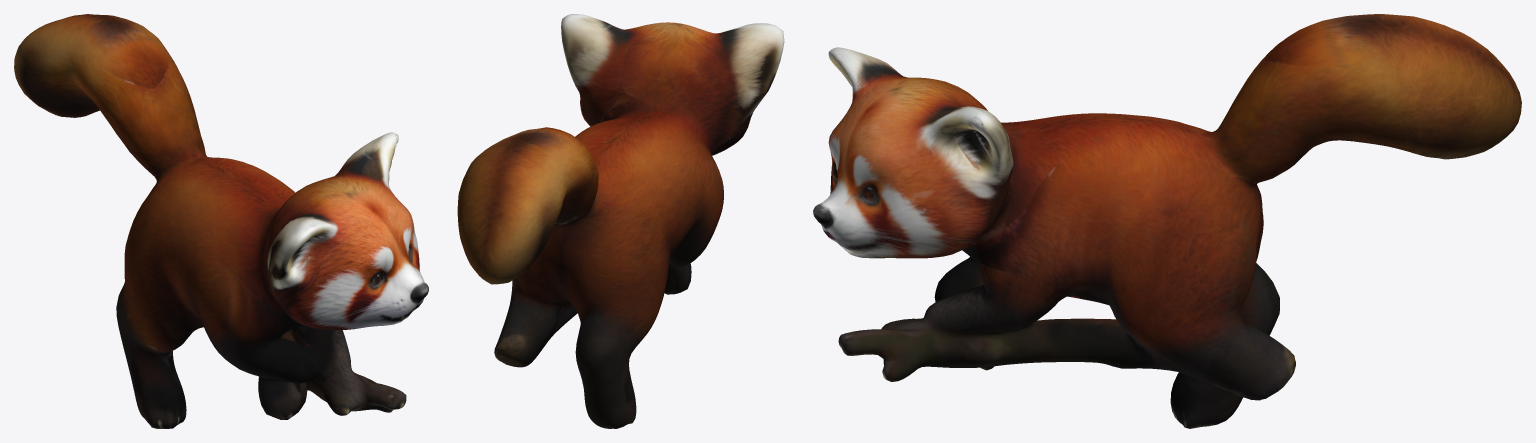
The model's file is a_realistic_red_panda_0118134912_texture.fbx.
The picture shows the model from 3 angles, left to right: view 1: azimuth 30°, elevation 25°; view 2: azimuth 150°, elevation 25°; view 3: azimuth 270°, elevation 25°; orthographic projection. The views are drawn at different scales.
Parts seen in each view (by area): view 1: Mesh1_Mesh1.072; view 2: Mesh1_Mesh1.072; view 3: Mesh1_Mesh1.072.
Part boxes in pixels (x1,y1,x2,y2): Mesh1_Mesh1.072: (14, 14, 428, 428); Mesh1_Mesh1.072: (457, 14, 784, 428); Mesh1_Mesh1.072: (813, 14, 1521, 428).
Size of the model in its own units: 70.26 by 128 by 199.
1 material, 1 textured.
